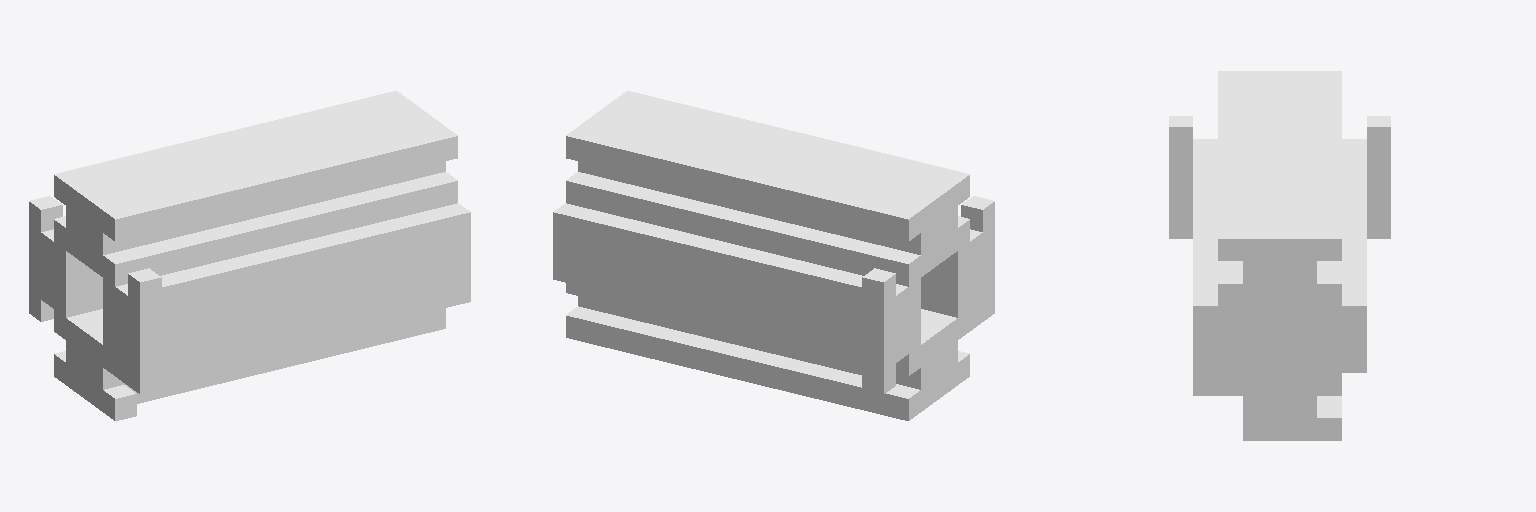
The model's file is PewPrompogun.obj.
The picture shows the model from 3 angles: view 1: azimuth 30°, elevation 25°; view 2: azimuth 150°, elevation 25°; view 3: azimuth 270°, elevation 25°; orthographic projection.
Parts seen in each view (by area): view 1: object 1; view 2: object 1; view 3: object 1.
Part boxes in pixels (bbox=[...]): object 1: bbox=[29, 91, 470, 420]; object 1: bbox=[553, 91, 994, 420]; object 1: bbox=[1169, 71, 1390, 440].
Bounding box in the file's own units: 1.6 × 0.9 × 0.9.